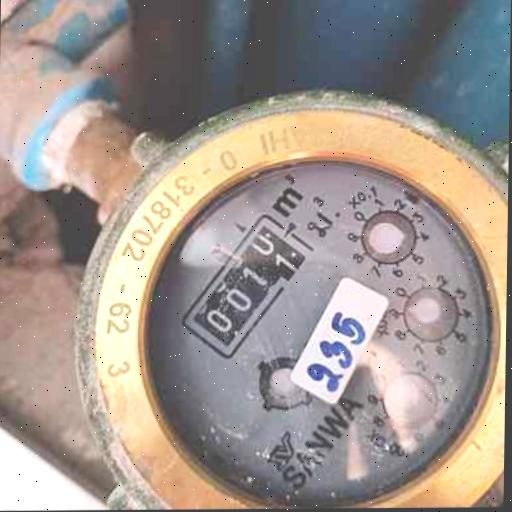0: (244, 225, 308, 283), (208, 272, 265, 325), (191, 297, 245, 348)
1: (227, 249, 281, 299)
border_water_meter_number: (176, 210, 315, 362)
